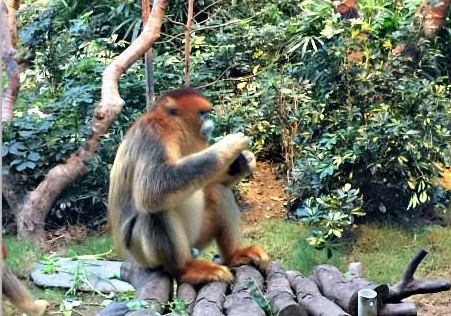GoldenSnub-Nosed: (113, 83, 271, 273)
